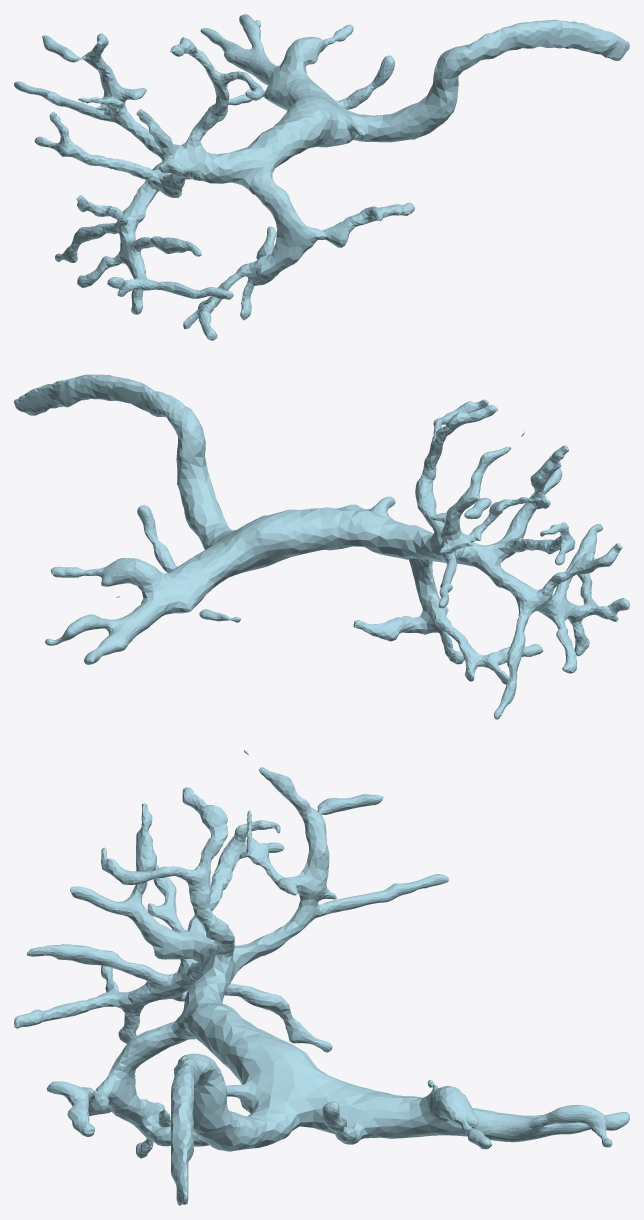
File: portalvein.obj
3 renders of one model, top to bottom at view 1: azimuth 30°, elevation 25°; view 2: azimuth 150°, elevation 25°; view 3: azimuth 270°, elevation 25°, orthographic. The views are drawn at different scales.
Parts seen in each view (by area): view 1: grp1; view 2: grp1; view 3: grp1.
Boxes of the visible parts, box(x1,y1,x2,y2) form: grp1: box(14, 14, 629, 340); grp1: box(14, 374, 629, 719); grp1: box(14, 750, 629, 1205).
Size of the model in its own units: 224 by 108 by 169.
